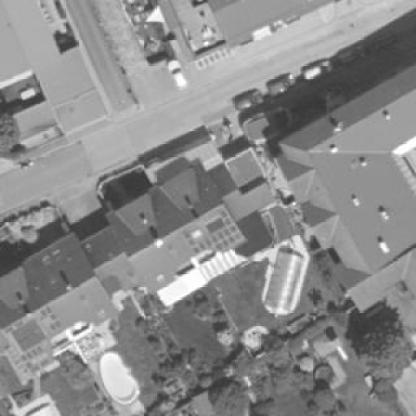solar-pv-panel: (182, 209, 243, 255), (11, 318, 47, 352), (18, 344, 50, 374), (39, 305, 64, 331), (205, 216, 226, 233), (3, 320, 24, 336)
